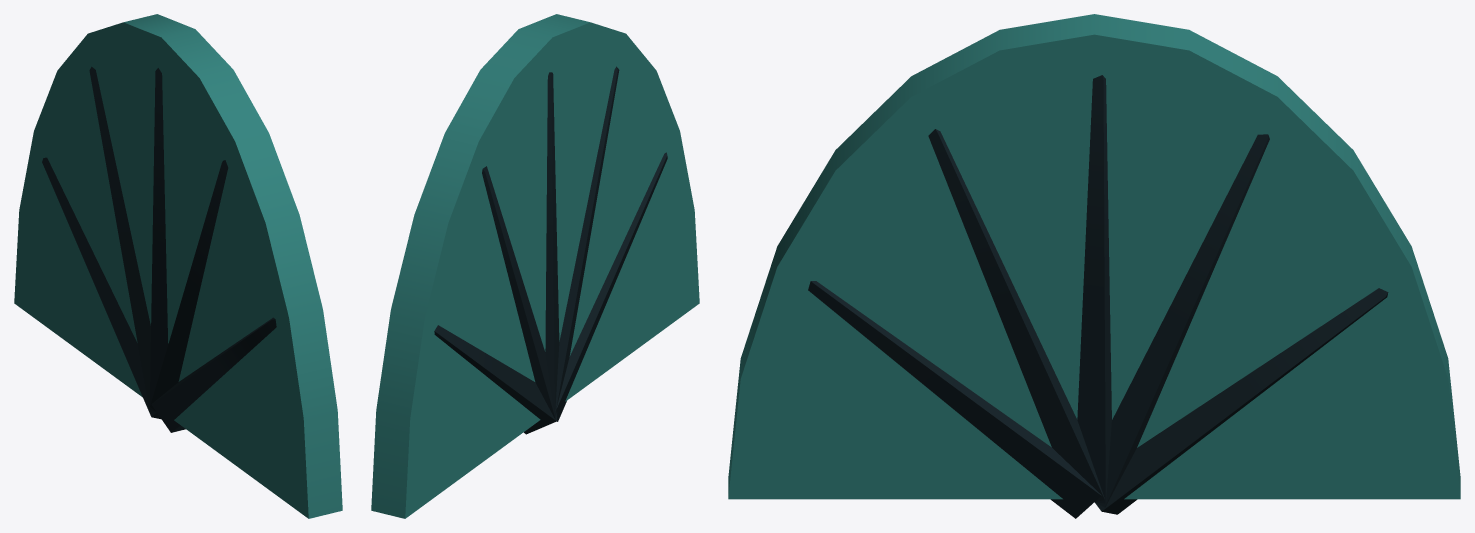
The model's file is crest_fin.glb.
3 renders of one model, left to right at view 1: azimuth 30°, elevation 25°; view 2: azimuth 150°, elevation 25°; view 3: azimuth 270°, elevation 25°, orthographic. The views are drawn at different scales.
Visible parts, largest first — view 1: crest_fin; view 2: crest_fin; view 3: crest_fin.
Boxes of the visible parts, left/top/right/bottom form: crest_fin: left=14, top=14, right=342, bottom=518; crest_fin: left=371, top=14, right=699, bottom=518; crest_fin: left=728, top=14, right=1460, bottom=518.
Bounding box in the file's own units: 0.0571 × 0.4433 × 0.6.
